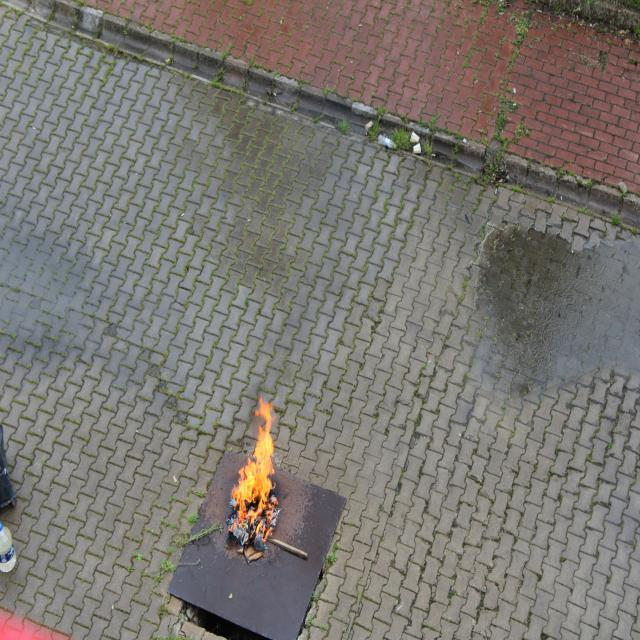fire: (221, 395, 282, 544)
